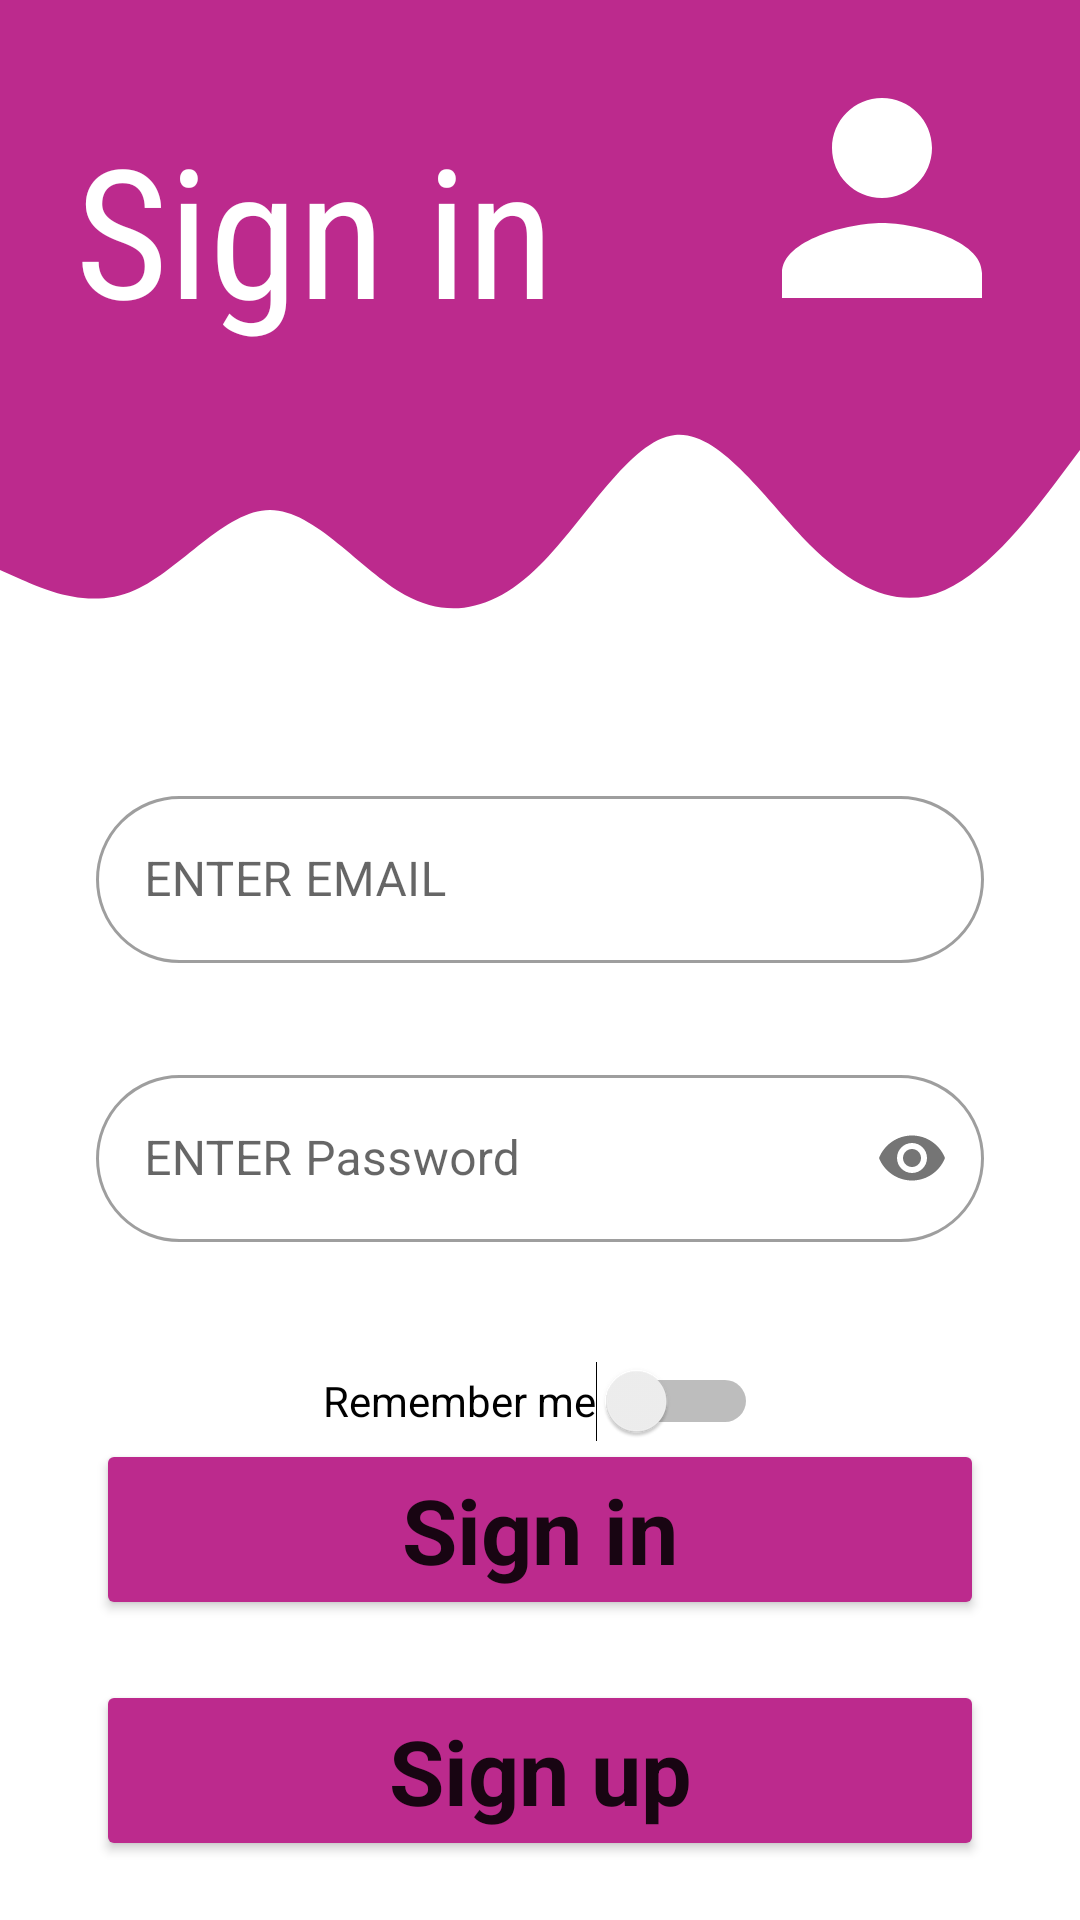

Screen size 1080×1920. Icon name, then its center in pixels as point (x, y):
person: point (882, 198)
